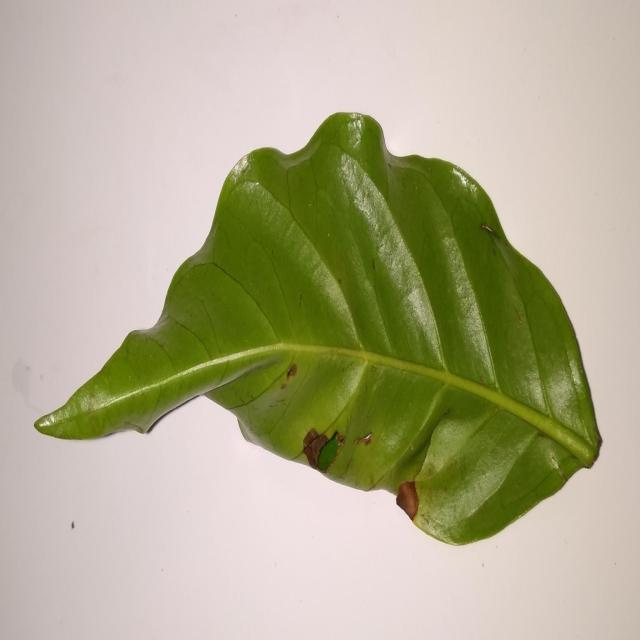Enfermedad-Antracnosis: (32, 111, 603, 549)
